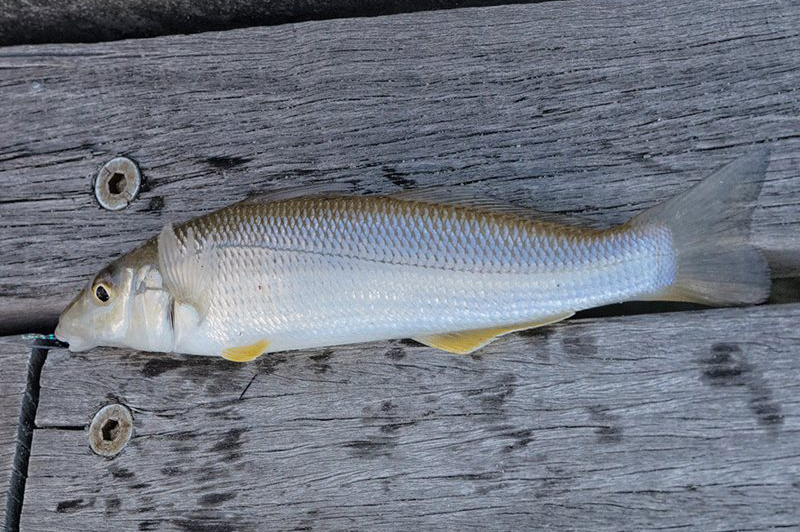kiss: (54, 181, 767, 364)
